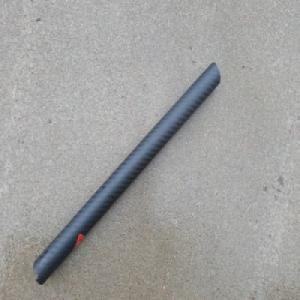LuggagePart: (33, 61, 220, 286)
